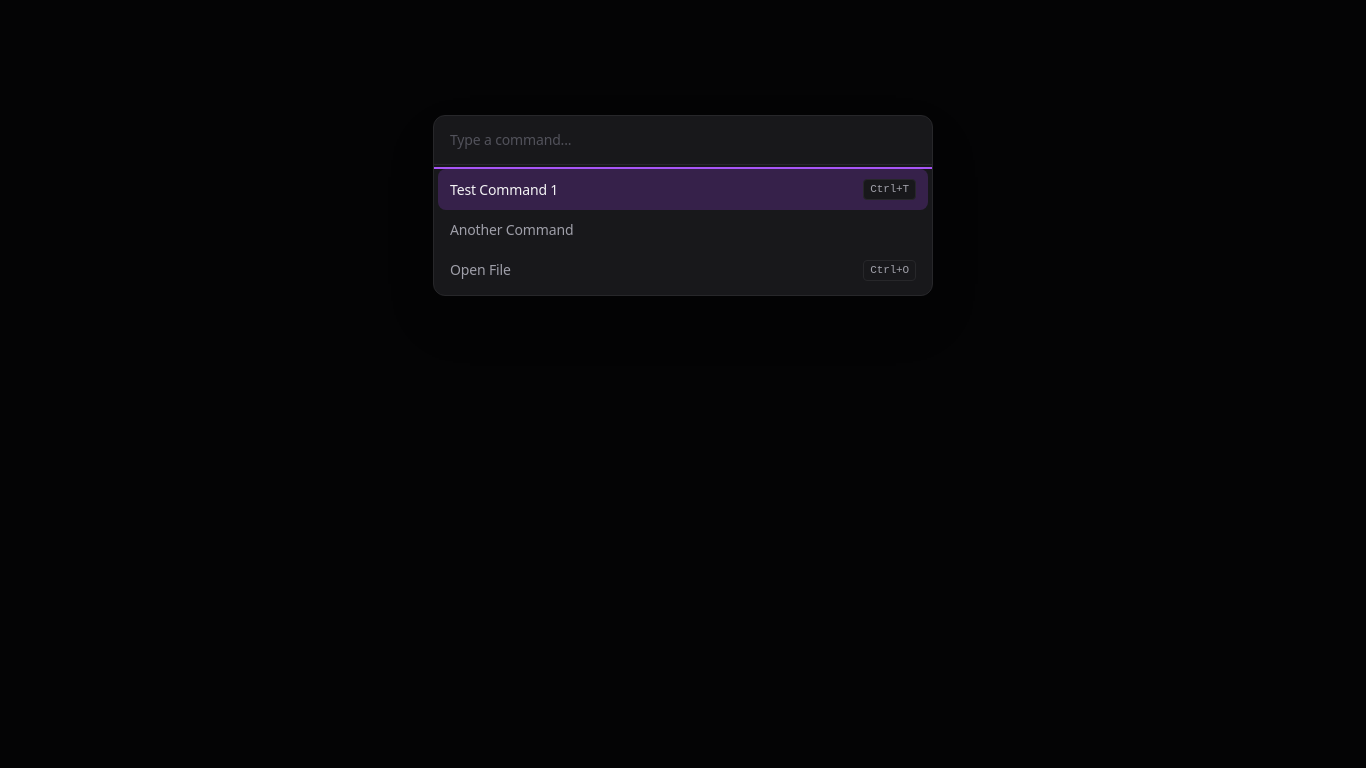
Test: CommandPalette › filters commands based on search query
Type "Open" into the field at {"x": 683, "y": 141}, box x1=434 y1=116 x2=932 y2=165
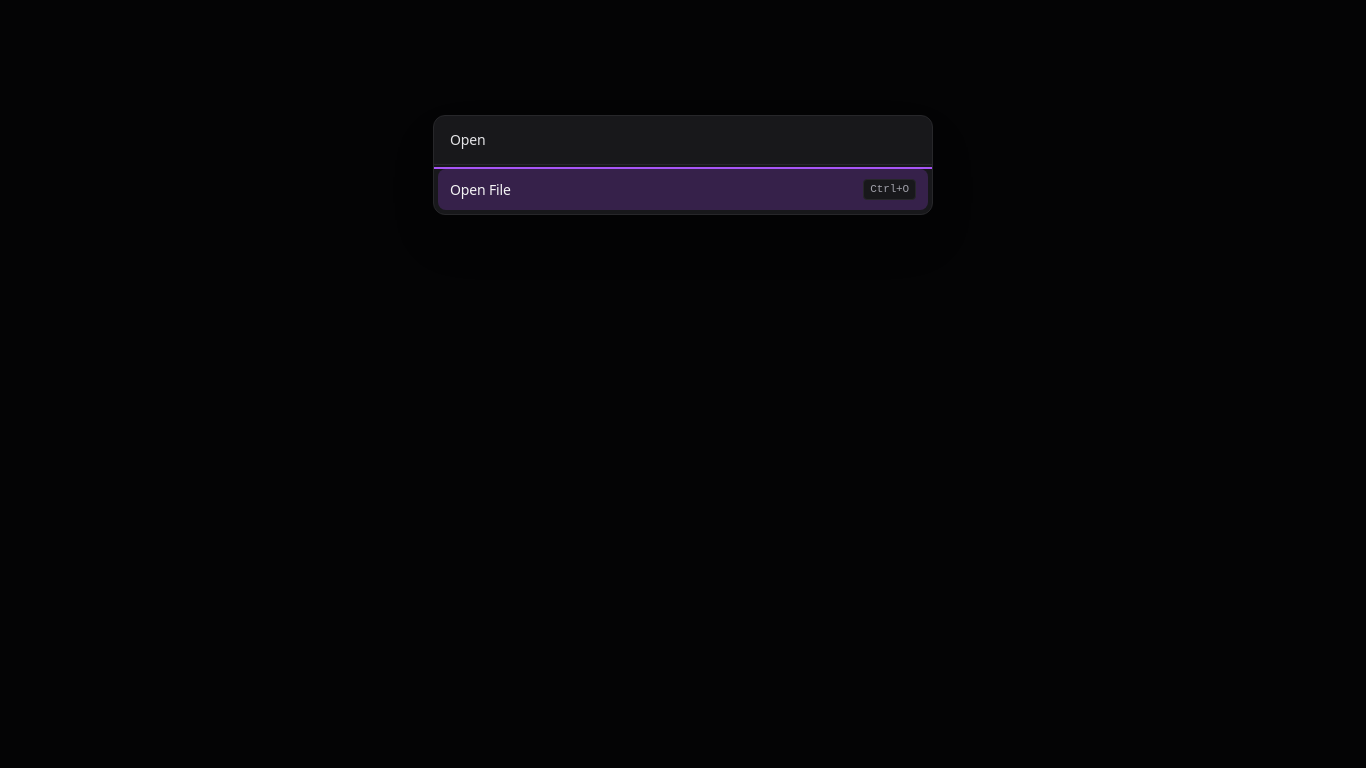
Expected: the text "Open File" is shown, x1=450 y1=180 x2=511 y2=200
Expected: the option "Test Command 1" is gone
